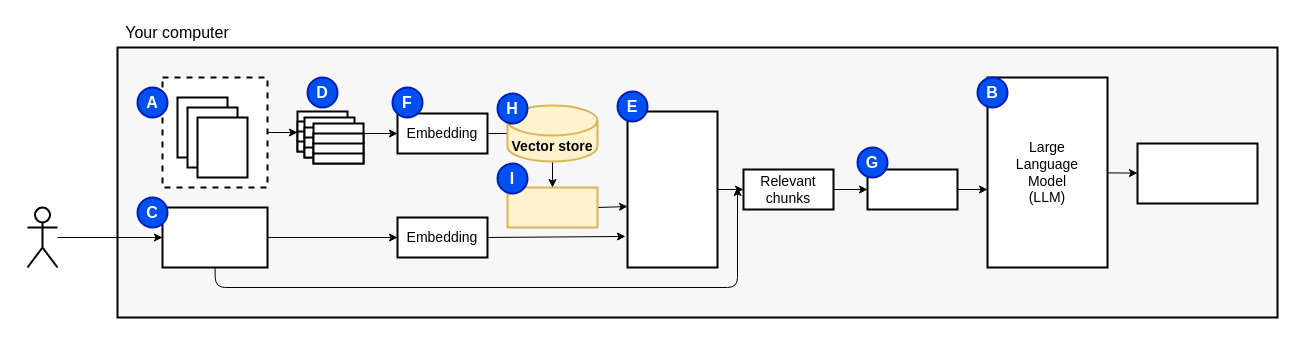
Some shapes in this 1304 by 354 pixel diagram are drawn without their labels. The shapes that lost their labels are listed below. From the top down, each one's centre as x and y in pixels, then its label:
At pixel 672 189: "Similarity search".
At pixel 912 189: "Prompt".
At pixel 1197 173: "Answer".
At pixel 552 207: "Vector index".
At pixel 214 237: "Question".
